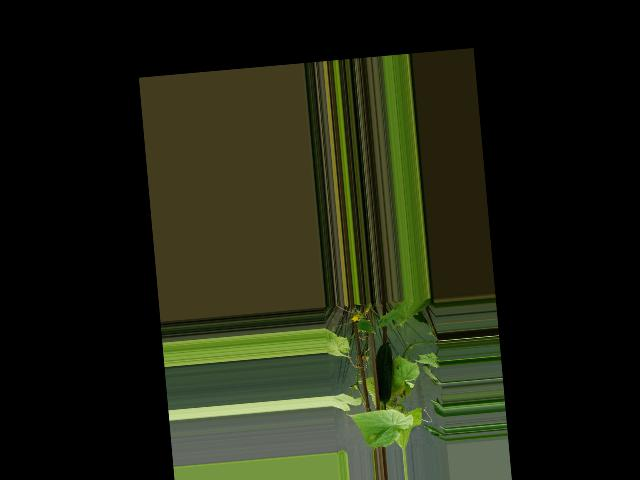cucumber: (373, 342, 396, 403)
